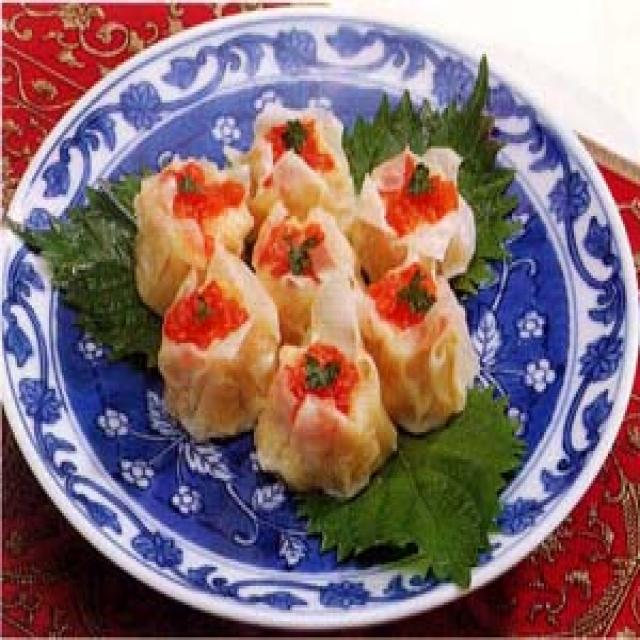带馅早点: (134, 113, 476, 405)
